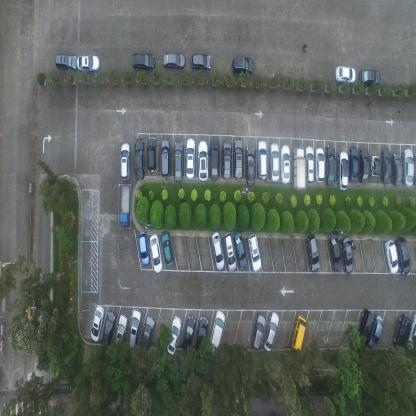car: (356, 307, 376, 349), (209, 309, 226, 358), (393, 313, 412, 350), (166, 314, 182, 356), (263, 311, 279, 352), (290, 314, 307, 352), (292, 145, 306, 191), (395, 236, 411, 276), (250, 312, 266, 352), (140, 314, 156, 354), (149, 232, 164, 274), (233, 229, 248, 271), (128, 308, 142, 352), (247, 233, 262, 273), (114, 312, 128, 354), (119, 183, 132, 228), (211, 231, 225, 272), (223, 231, 237, 272), (328, 232, 342, 273), (130, 51, 156, 73), (195, 315, 209, 355), (90, 303, 104, 342), (368, 314, 384, 348), (384, 239, 399, 275), (306, 234, 320, 272), (182, 314, 196, 352), (102, 309, 116, 347), (54, 51, 78, 73), (257, 139, 269, 181), (134, 138, 146, 180), (401, 148, 413, 188), (119, 140, 131, 180), (335, 64, 356, 86), (304, 144, 315, 186), (197, 140, 208, 182), (173, 140, 184, 182), (77, 53, 100, 73), (380, 147, 392, 185), (162, 51, 186, 70), (337, 150, 348, 191), (161, 230, 173, 267), (232, 56, 254, 76), (326, 143, 336, 187), (210, 138, 220, 181), (185, 136, 195, 179), (245, 145, 255, 187), (222, 139, 232, 181), (160, 136, 170, 178), (138, 231, 150, 266), (191, 52, 212, 72), (359, 146, 370, 184), (348, 145, 359, 183), (358, 68, 381, 86), (280, 144, 290, 185), (391, 150, 402, 187), (342, 237, 353, 274), (270, 142, 280, 182), (147, 135, 157, 172), (234, 139, 243, 180), (406, 311, 415, 352), (315, 147, 325, 183), (369, 153, 380, 177), (413, 150, 416, 186)
